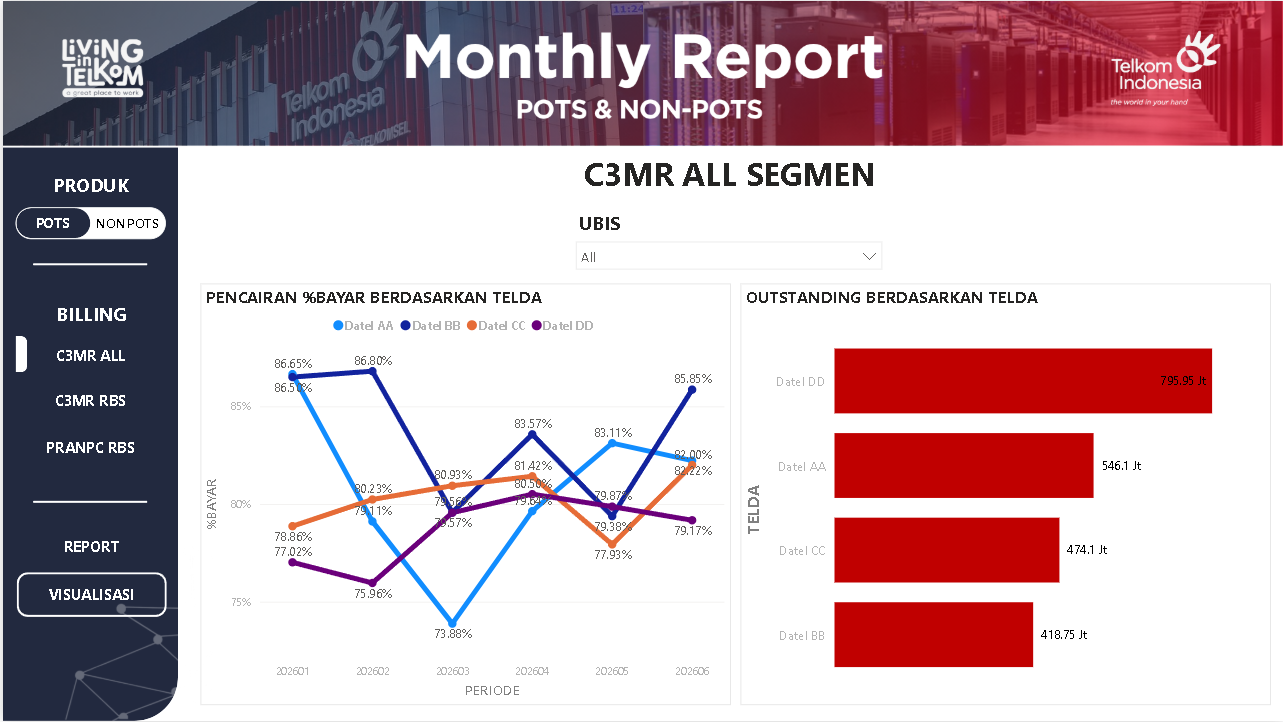

This screenshot's page, from the dashboard's own definition file:
{"tool":"powerbi","page":{"name":"POTS","canvas":[1280,720],"ordinal":0},"visuals":[{"type":"textbox","title":"Judul PRANPC RBS","box":[173.8,145,1106.2,53.8],"z":2000},{"type":"shape","title":"Sidebar","box":[0,146.2,175,573.8],"z":5000},{"type":"pageNavigator","box":[12.2,206.7,150,32.2],"z":6000},{"type":"image","title":"gambar sidebar","box":[36.9,412.3,190,307.5],"z":7000},{"type":"shape","title":"Pemisah produk billing","box":[30,242,114.6,41.5],"z":21000},{"type":"textbox","title":"Text box PRODUK","box":[6.2,166.2,163.1,36.9],"z":22000},{"type":"textbox","title":"Text box BILLING","box":[6,295,163,36],"z":23000},{"type":"actionButton","title":"Button C3MR ALL","box":[12.6,330.9,150,45.7],"z":24000},{"type":"actionButton","title":"Button PraNPC","box":[12.4,422,150,46.5],"z":25000},{"type":"actionButton","title":"Button PraNPC","box":[12.6,376.5,150,45.7],"z":26000},{"type":"shape","title":"Penanda billing pranpc","box":[12.9,427.1,11.8,36.5],"z":27000},{"type":"shape","title":"pemisah billing report","box":[30,480.4,114.4,41.7],"z":30000},{"type":"actionButton","title":"Button Report PRANPC BILPER ON","box":[13.8,521.5,150,46.2],"z":31000},{"type":"actionButton","title":"Button Visualisasi PRANPC OFF","box":[13.6,570.7,150,45],"z":55500},{"type":"tableEx","title":"PRANPC RBS BILPER","fields":{"Values":["Mapping New Telda.NEW TELDA","Sum(PRANPC RBS BILPER.Billing_L11 )","Sum(PRANPC RBS BILPER.Billing_Amount )","Sum(PRANPC RBS BILPER.Pencairan_Bayar )","PRANPC RBS BILPER.PRANPC BILPER_%Bayar","Sum(PRANPC RBS BILPER.Pencairan_Claim )","PRANPC RBS BILPER.PRANPC BILPER_%Claim","Sum(PRANPC RBS BILPER.Total Pencairan_L11 )","Sum(PRANPC RBS BILPER.Total Pencarian_Amount )","PRANPC RBS BILPER.PRANPC BILPER_%L11","PRANPC RBS BILPER.PRANPC BILPER_%Ammount","Sum(PRANPC RBS BILPER.Saldo_L11 )"]},"box":[211.2,262.5,1032.5,201.2],"z":64000},{"type":"shape","title":"outline button pranpc rbs","box":[481.5,198.9,488.8,60.6],"z":66000},{"type":"actionButton","title":"Button Umur PRANPC Putih","box":[486,202.2,120,54.7],"z":67000},{"type":"actionButton","title":"Button Witel PRANPC Putih","box":[605.7,202.4,120,52.9],"z":68000},{"type":"actionButton","title":"Button Telda PRANPC Putih","box":[725.7,202.4,120,52.9],"z":69000},{"type":"actionButton","title":"Button Bilper PRANPC","box":[846,202.9,120,52.7],"z":74000}]}

Visuals, with their boxes in screenshot pixels (x1, y1, x2, y2), scaled from the page's 1280x720 canvas onto the 1283x722 screenshot:
"Judul PRANPC RBS" textbox: bbox=[174, 145, 1282, 199]
"Sidebar" shape: bbox=[0, 147, 175, 721]
pageNavigator: bbox=[12, 207, 163, 240]
"gambar sidebar" image: bbox=[37, 413, 227, 721]
"Pemisah produk billing" shape: bbox=[30, 243, 145, 284]
"Text box PRODUK" textbox: bbox=[6, 167, 170, 204]
"Text box BILLING" textbox: bbox=[6, 296, 169, 332]
"Button C3MR ALL" actionButton: bbox=[13, 332, 163, 378]
"Button PraNPC" actionButton: bbox=[12, 423, 163, 470]
"Button PraNPC" actionButton: bbox=[13, 378, 163, 423]
"Penanda billing pranpc" shape: bbox=[13, 428, 25, 465]
"pemisah billing report" shape: bbox=[30, 482, 145, 524]
"Button Report PRANPC BILPER ON" actionButton: bbox=[14, 523, 164, 569]
"Button Visualisasi PRANPC OFF" actionButton: bbox=[14, 572, 164, 617]
"PRANPC RBS BILPER" tableEx: bbox=[212, 263, 1247, 465]
"outline button pranpc rbs" shape: bbox=[483, 199, 973, 260]
"Button Umur PRANPC Putih" actionButton: bbox=[487, 203, 607, 258]
"Button Witel PRANPC Putih" actionButton: bbox=[607, 203, 727, 256]
"Button Telda PRANPC Putih" actionButton: bbox=[727, 203, 848, 256]
"Button Bilper PRANPC" actionButton: bbox=[848, 203, 968, 256]
